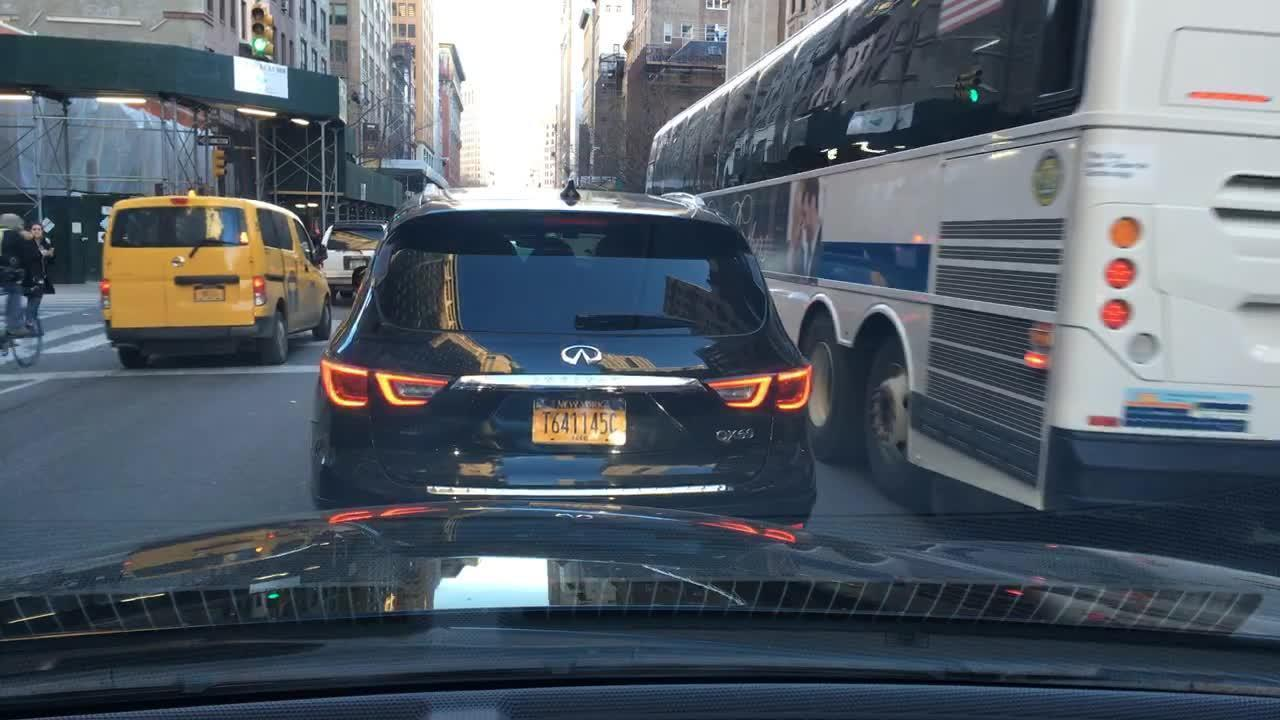Infiniti: (554, 337, 607, 369)
